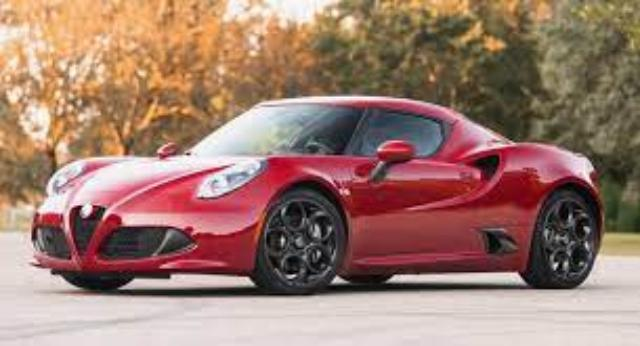alpha-romeo: (30, 95, 604, 295)
